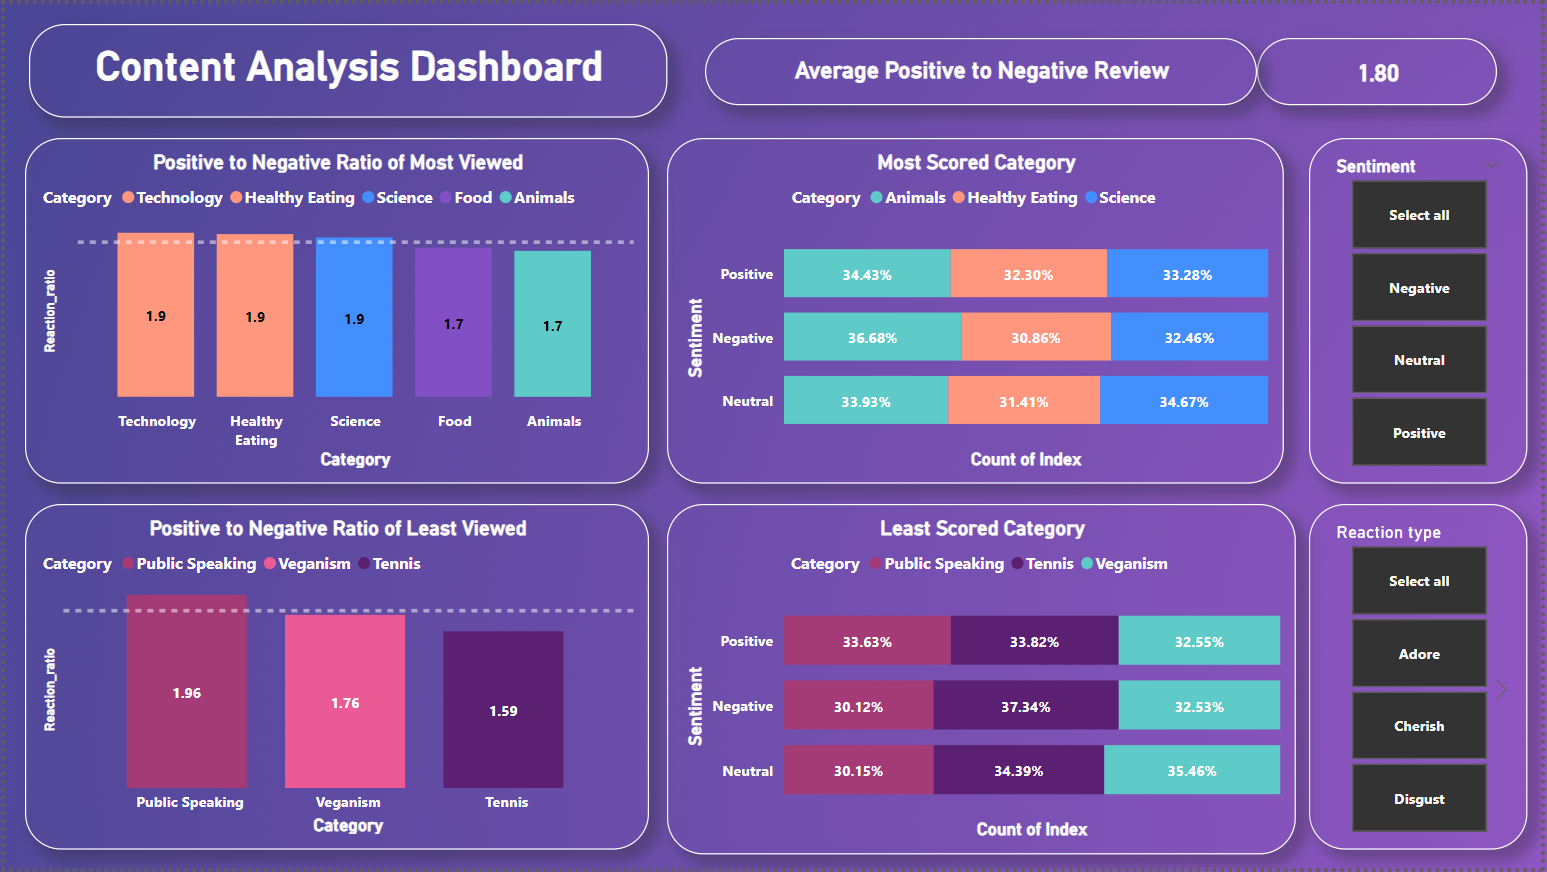

The page's visual inventory and layout, read from the dashboard file:
{"tool":"powerbi","page":{"name":"Page 3","canvas":[1280,720],"ordinal":2},"visuals":[{"type":"hundredPercentStackedBarChart","title":"Most Scored Category","fields":{"Category":["Final.Sentiment"],"Y":["CountNonNull(Final.Index)"],"Series":["Final.Category"]},"box":[552,112,514,288],"z":0},{"type":"columnChart","title":"Positive to Negative Ratio of Most Viewed","fields":{"Y":["Final.Reaction_ratio"],"Series":["Final.Category"],"Category":["Final.Category"]},"box":[16,112,520,288],"z":1000},{"type":"slicer","fields":{"Values":["Final.Sentiment"]},"box":[1086,112,182,288],"z":2000},{"type":"slicer","fields":{"Values":["Final.Reaction type"]},"box":[1086,416,182,288],"z":3000},{"type":"hundredPercentStackedBarChart","title":"Least Scored Category","fields":{"Category":["Final.Sentiment"],"Y":["CountNonNull(Final.Index)"],"Series":["Final.Category"]},"box":[552,416,524,292],"z":4000},{"type":"columnChart","title":"Positive to Negative Ratio of Least Viewed","fields":{"Y":["Final.Reaction_ratio"],"Series":["Final.Category"],"Category":["Final.Category"]},"box":[16,416,520,288],"z":5000},{"type":"card","fields":{"Values":["Final.Reaction_ratio"]},"box":[1044,28,200,56],"z":6000},{"type":"textbox","box":[584,28,460,56],"z":7000},{"type":"textbox","box":[20,16,532,78],"z":8000}]}

Visuals, with their boxes in screenshot pixels (x1, y1, x2, y2), scaled from the page's 1280x720 canvas onto the 1547x872 screenshot:
"Most Scored Category" hundredPercentStackedBarChart: detection(667, 136, 1288, 484)
"Positive to Negative Ratio of Most Viewed" columnChart: detection(19, 136, 648, 484)
slicer - Final.Sentiment: detection(1313, 136, 1532, 484)
slicer - Final.Reaction type: detection(1313, 504, 1532, 853)
"Least Scored Category" hundredPercentStackedBarChart: detection(667, 504, 1300, 857)
"Positive to Negative Ratio of Least Viewed" columnChart: detection(19, 504, 648, 853)
card - Final.Reaction_ratio: detection(1262, 34, 1503, 102)
textbox: detection(706, 34, 1262, 102)
textbox: detection(24, 19, 667, 114)
